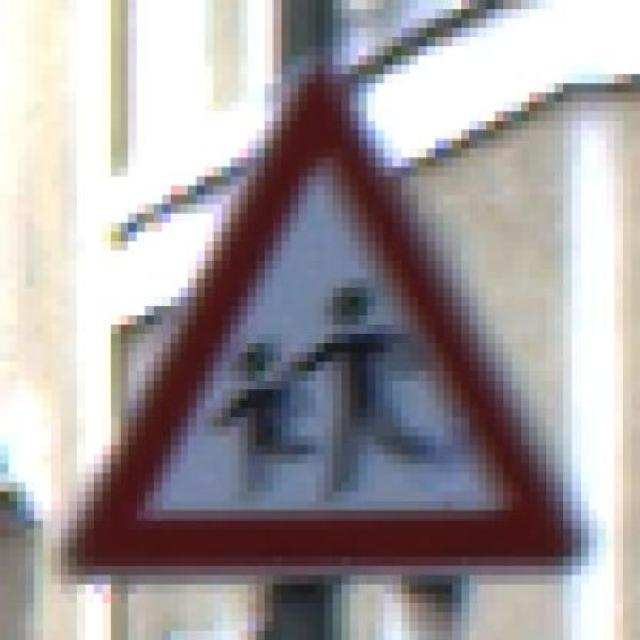Beware of children: (43, 56, 606, 584)
